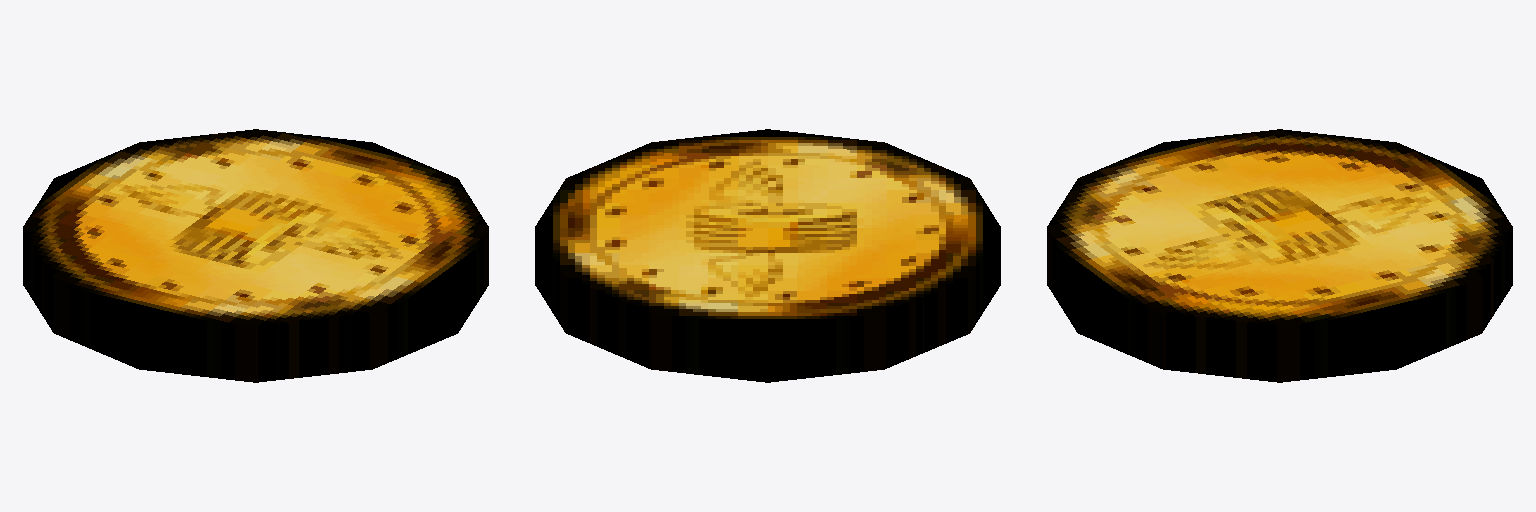
3 views of the same model, side by side, from view 1: azimuth 30°, elevation 25°; view 2: azimuth 150°, elevation 25°; view 3: azimuth 270°, elevation 25° (orthographic).
Visible parts, largest first — view 1: Coin; view 2: Coin; view 3: Coin.
Part boxes in pixels (left/top/right/bottom): Coin: left=23, top=129, right=488, bottom=382; Coin: left=535, top=129, right=1000, bottom=382; Coin: left=1047, top=129, right=1512, bottom=382.
Size of the model in its own units: 78.74 by 10.48 by 78.74.
Materials: 2 (2 with a texture image).